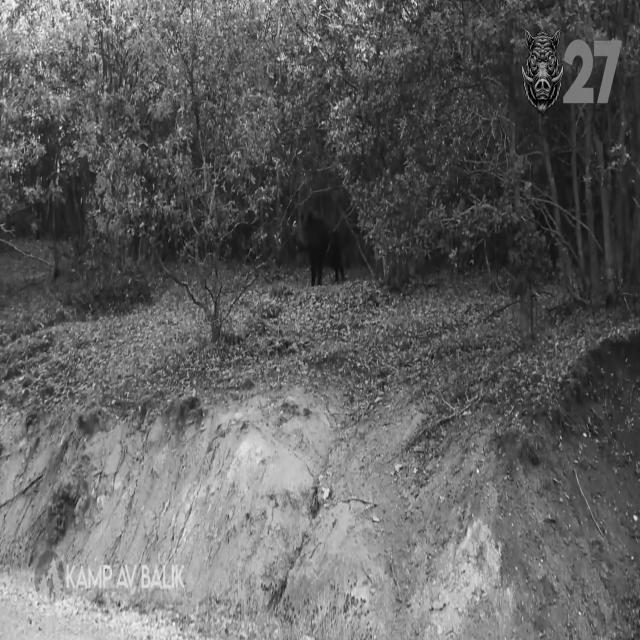boar: (296, 189, 372, 284)
